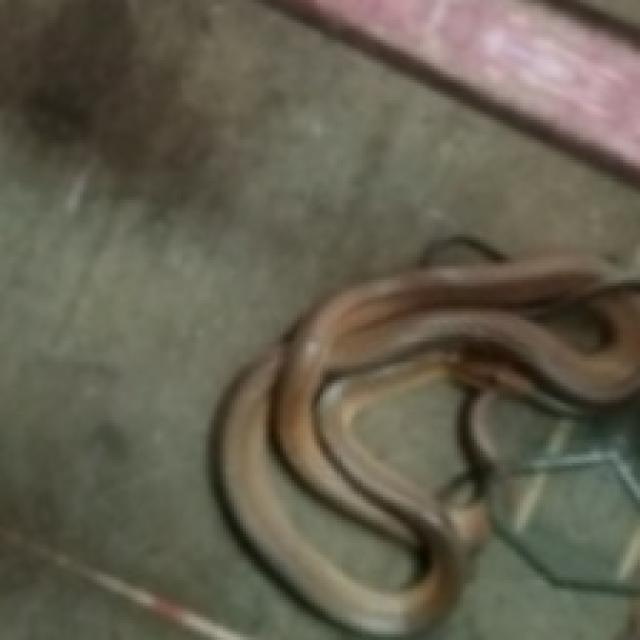red-tailed green ratsnake: (211, 254, 637, 634)
